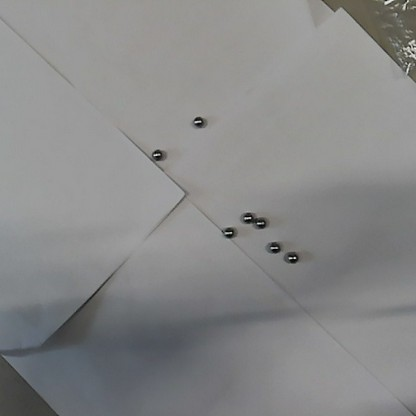ironball: (192, 115, 203, 128), (241, 210, 252, 223), (222, 226, 234, 237), (269, 241, 280, 252), (286, 252, 297, 263), (151, 149, 162, 159), (255, 217, 265, 227)
